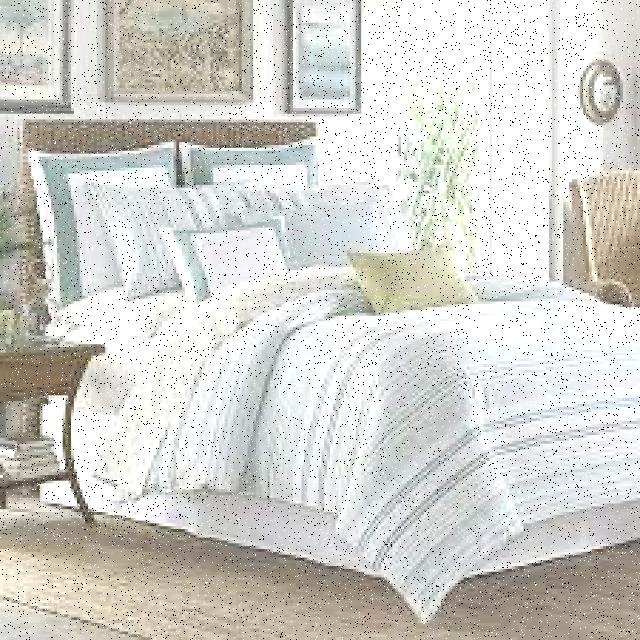bed: (25, 105, 636, 554)
